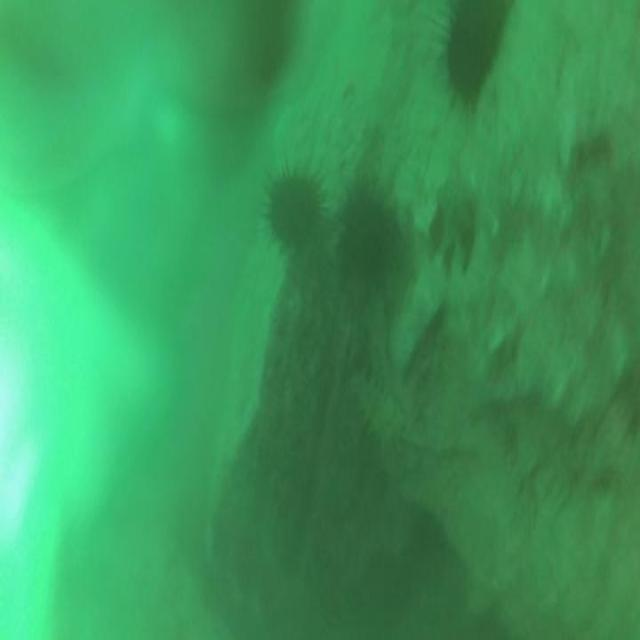echinus: (445, 2, 507, 101), (339, 191, 389, 270), (268, 174, 321, 243)
holothurian: (350, 369, 407, 454)
